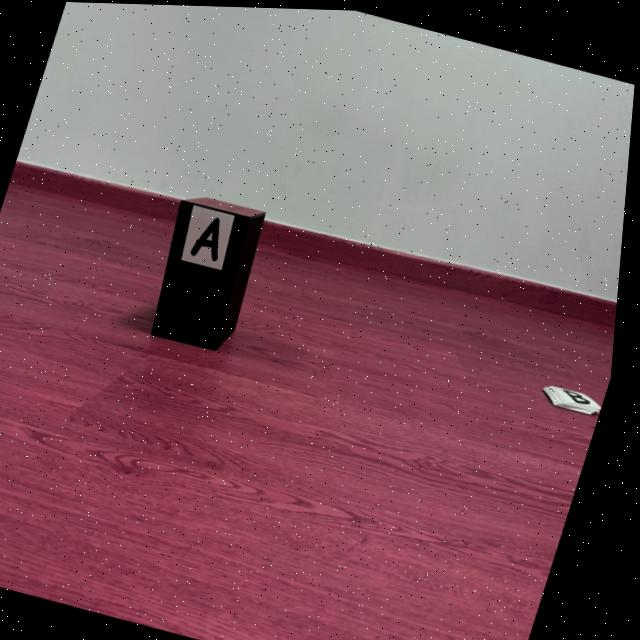A: (194, 216, 223, 259)
